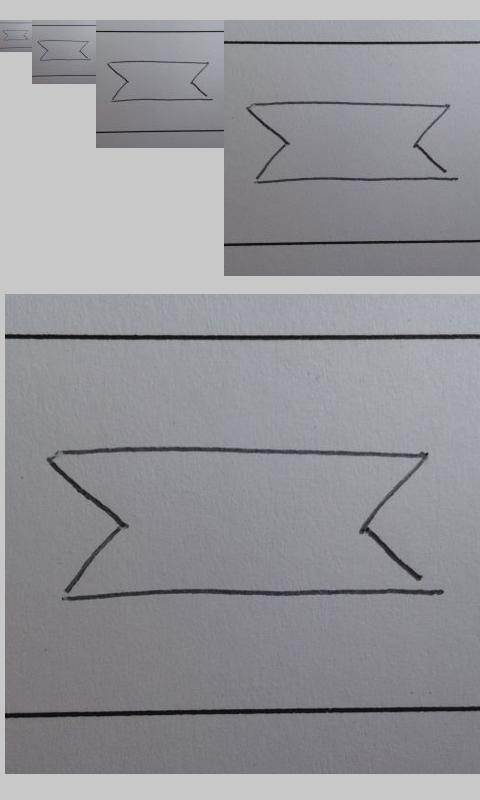edit_text: (44, 442, 430, 603), (245, 98, 458, 185), (107, 60, 210, 102), (37, 39, 89, 62), (2, 29, 29, 41)
